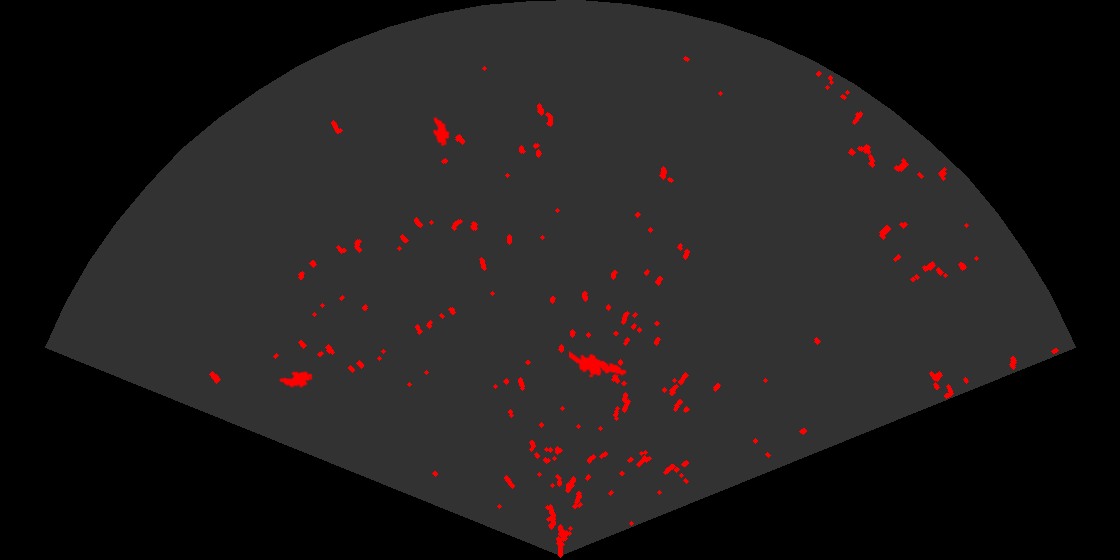AUV: (277, 369, 314, 388), (431, 115, 452, 148)
frogman: (569, 349, 628, 379)
